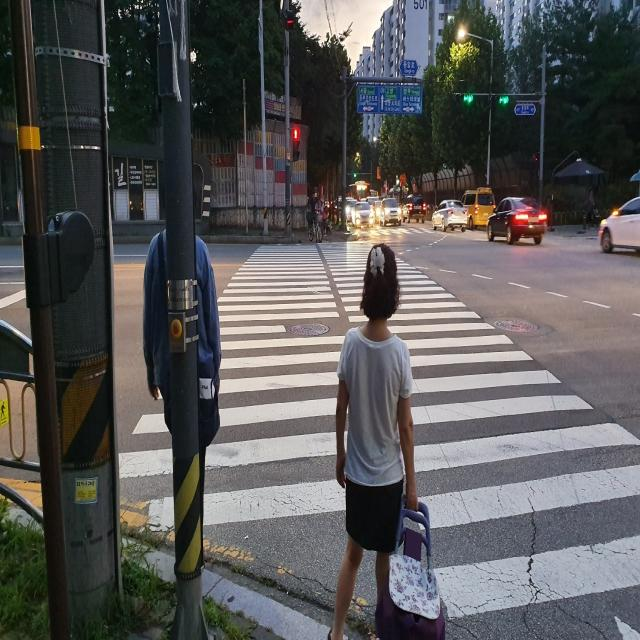빨간불: (290, 127, 303, 172)
횡단보도: (117, 238, 640, 639)
